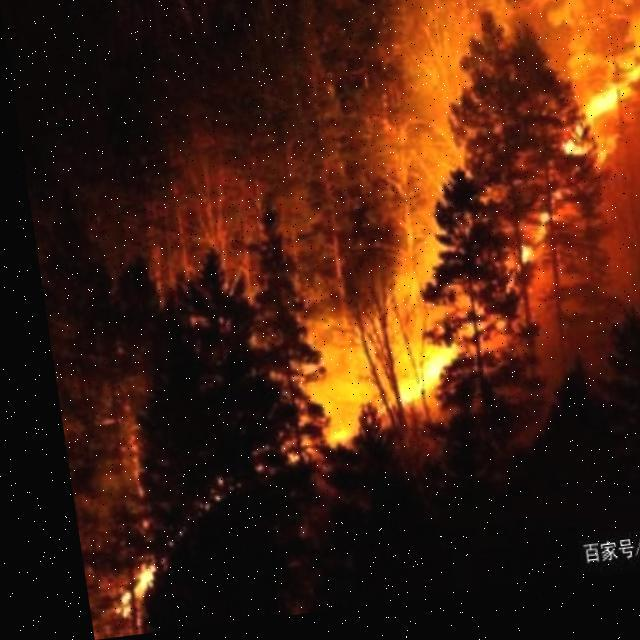Fire: (456, 39, 639, 324), (278, 296, 452, 454), (86, 552, 151, 618)
